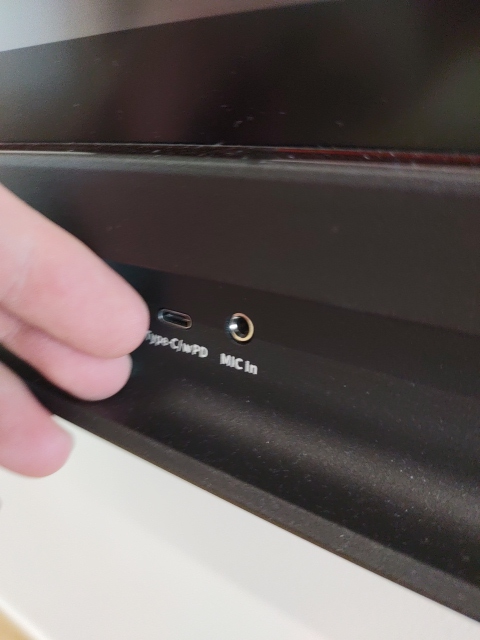3.5mm_audio: (228, 313, 255, 343)
USB-C: (157, 307, 193, 329)
